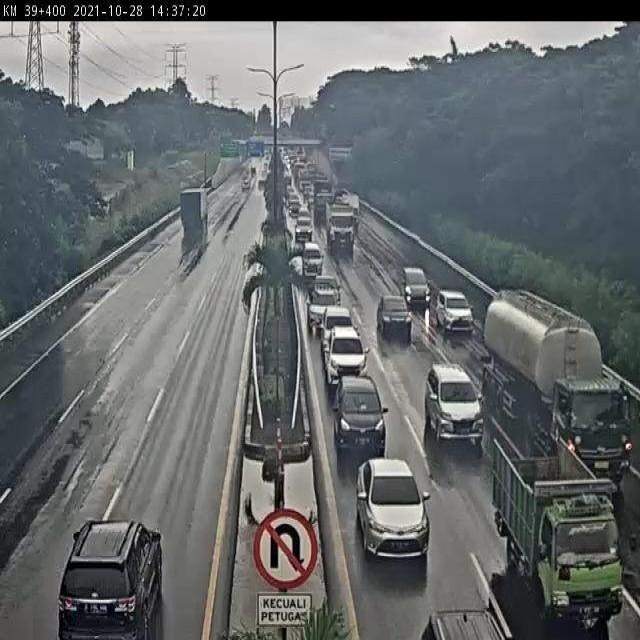big truck: (485, 294, 631, 482), (174, 187, 210, 232), (326, 204, 354, 253)
car: (59, 516, 168, 640), (354, 457, 434, 560), (421, 362, 486, 449), (332, 373, 390, 451), (322, 323, 373, 393), (376, 292, 413, 341), (435, 291, 474, 337), (319, 304, 354, 347), (304, 284, 337, 324), (399, 263, 428, 304), (315, 273, 344, 308), (301, 241, 325, 276), (292, 211, 315, 237)
small truck: (493, 433, 626, 623)
